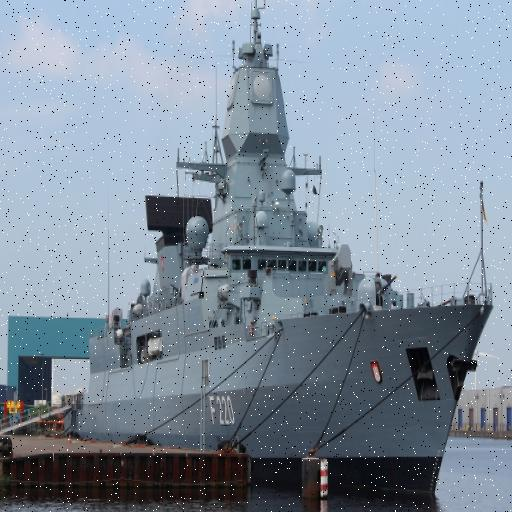Fragata: (58, 1, 504, 510)
